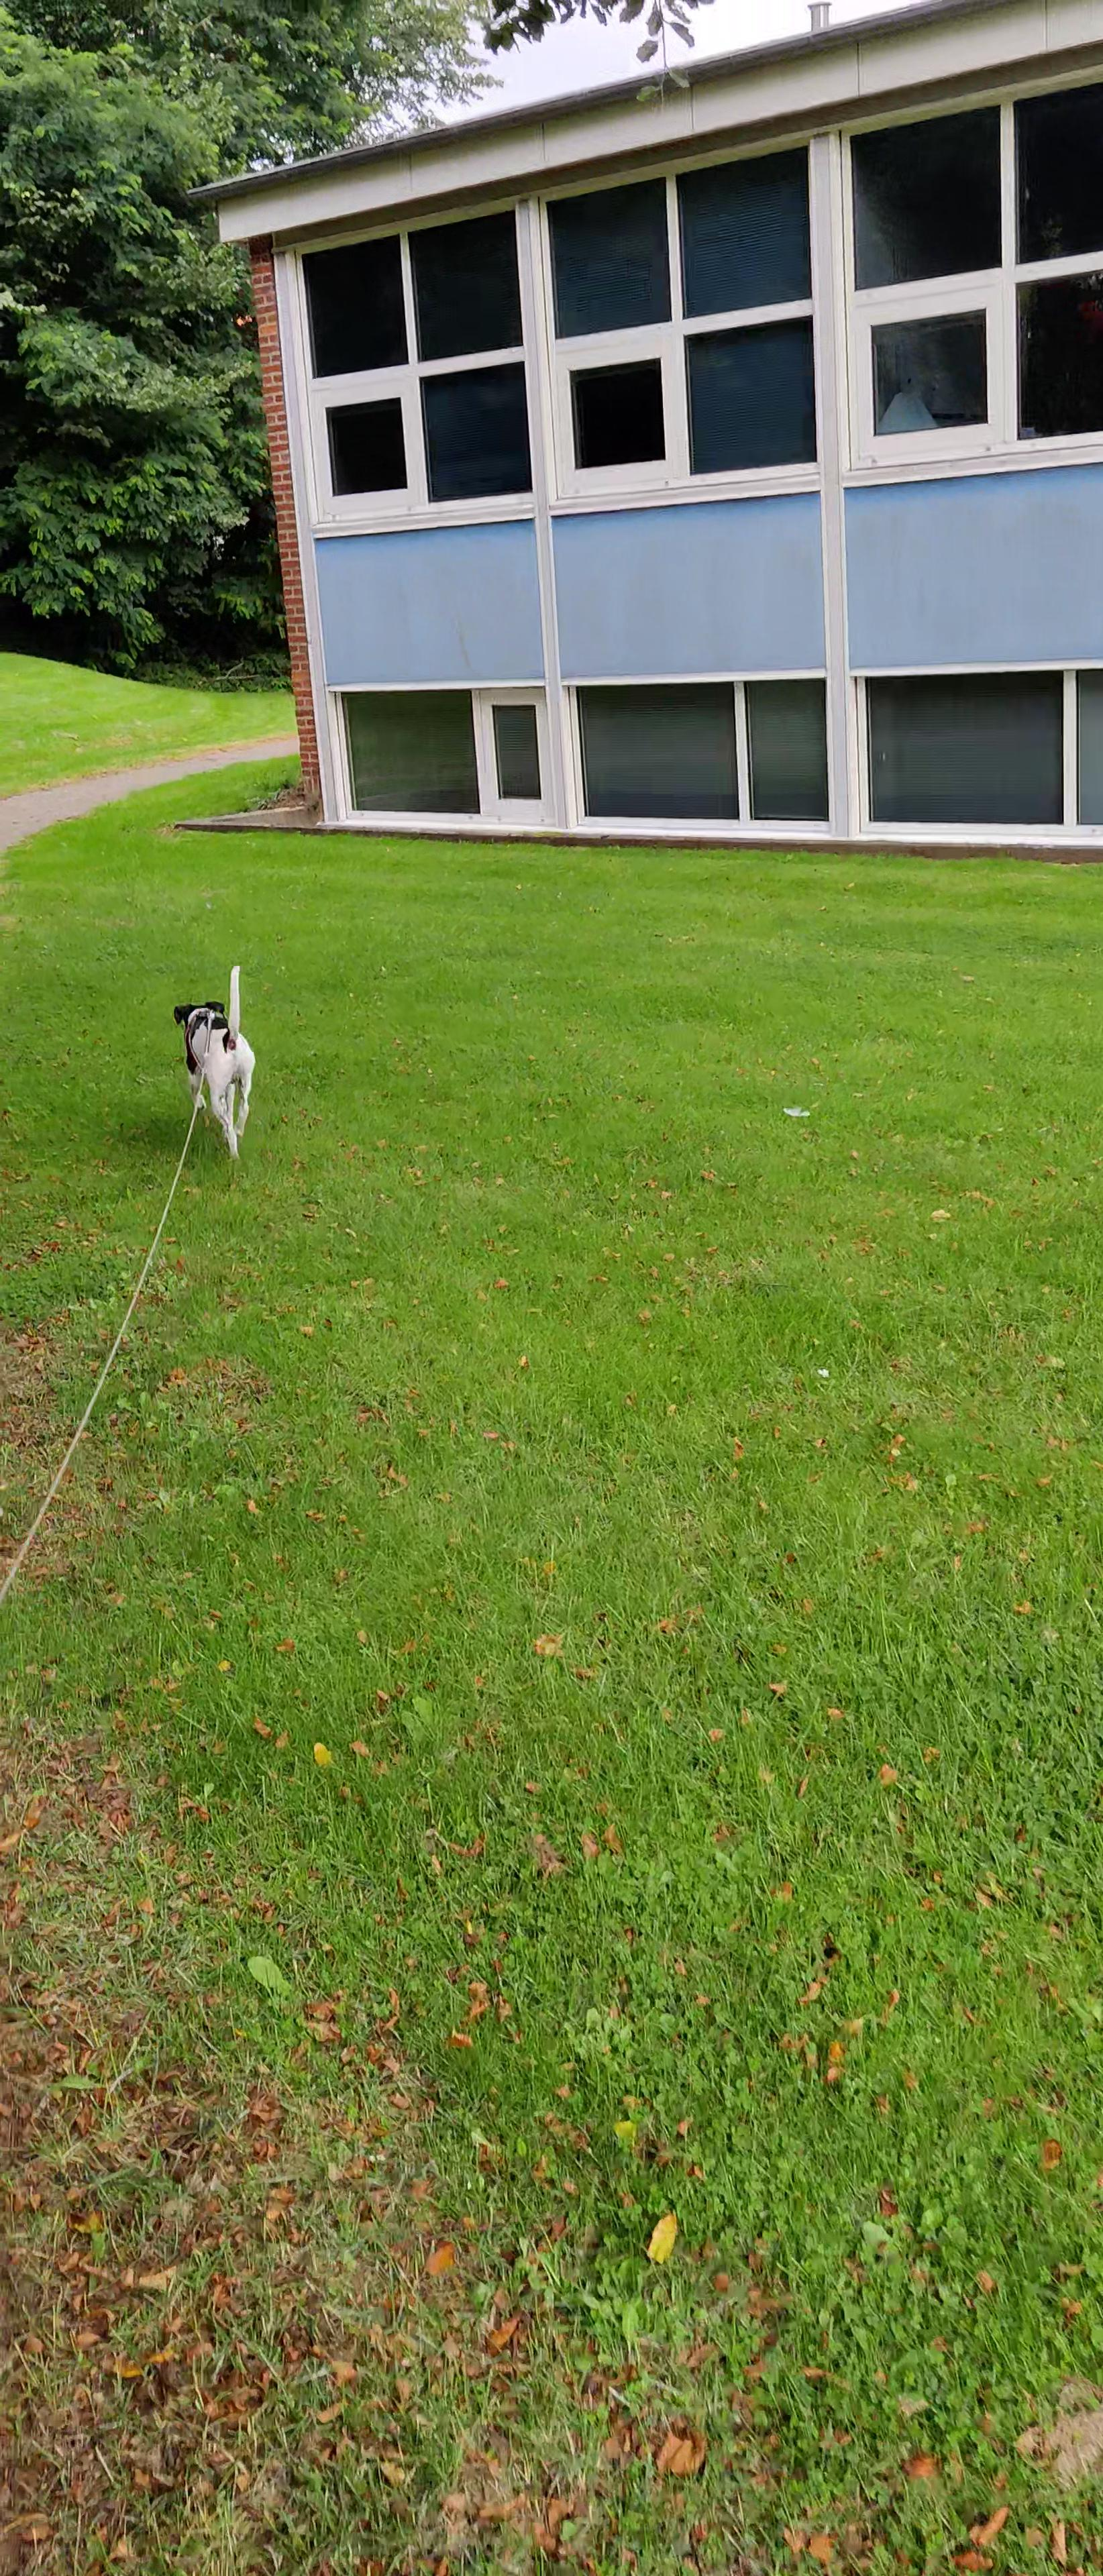Dog: (158, 945, 275, 1175)
